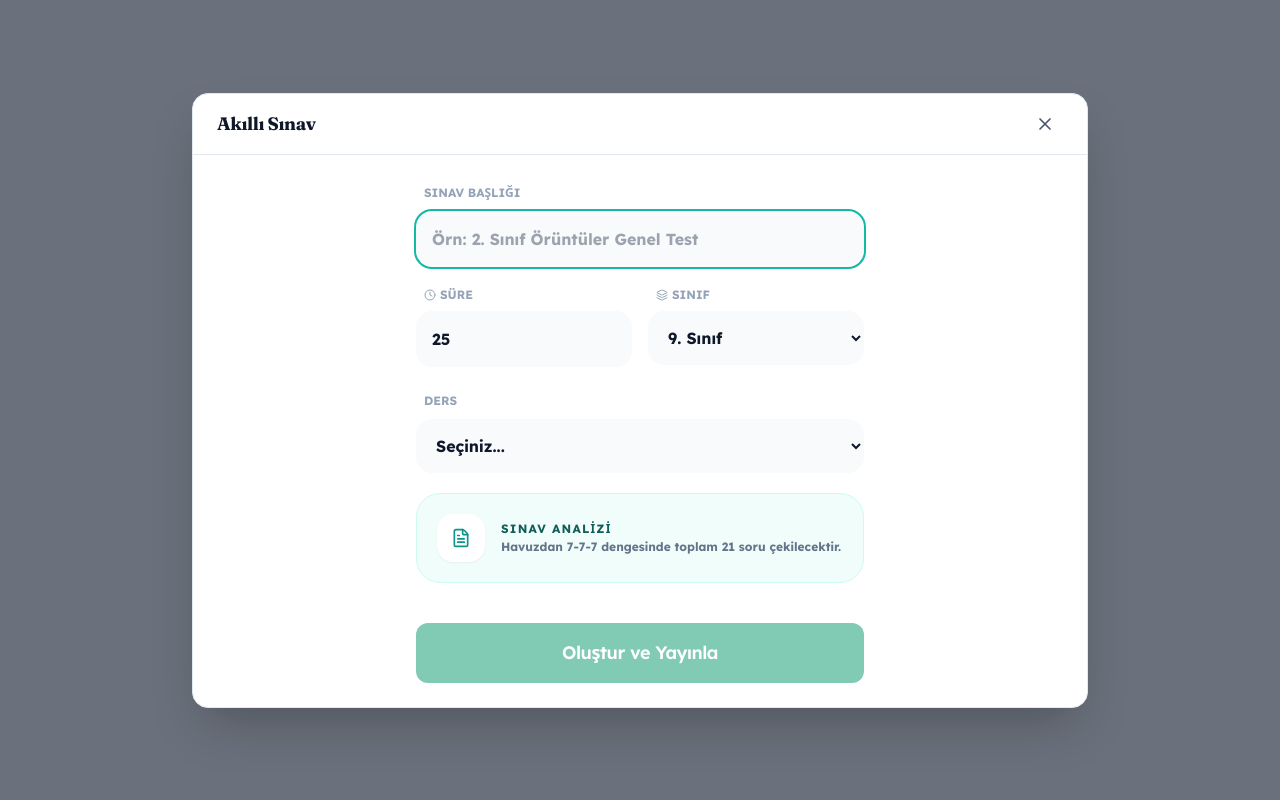
Scenario: shows insufficient pool counts before allowing publication
This screenshot has width=1280, height=800.
Select "Matematik" in the dropdown named "Ders" at (640, 446), box [416,418,864,472]
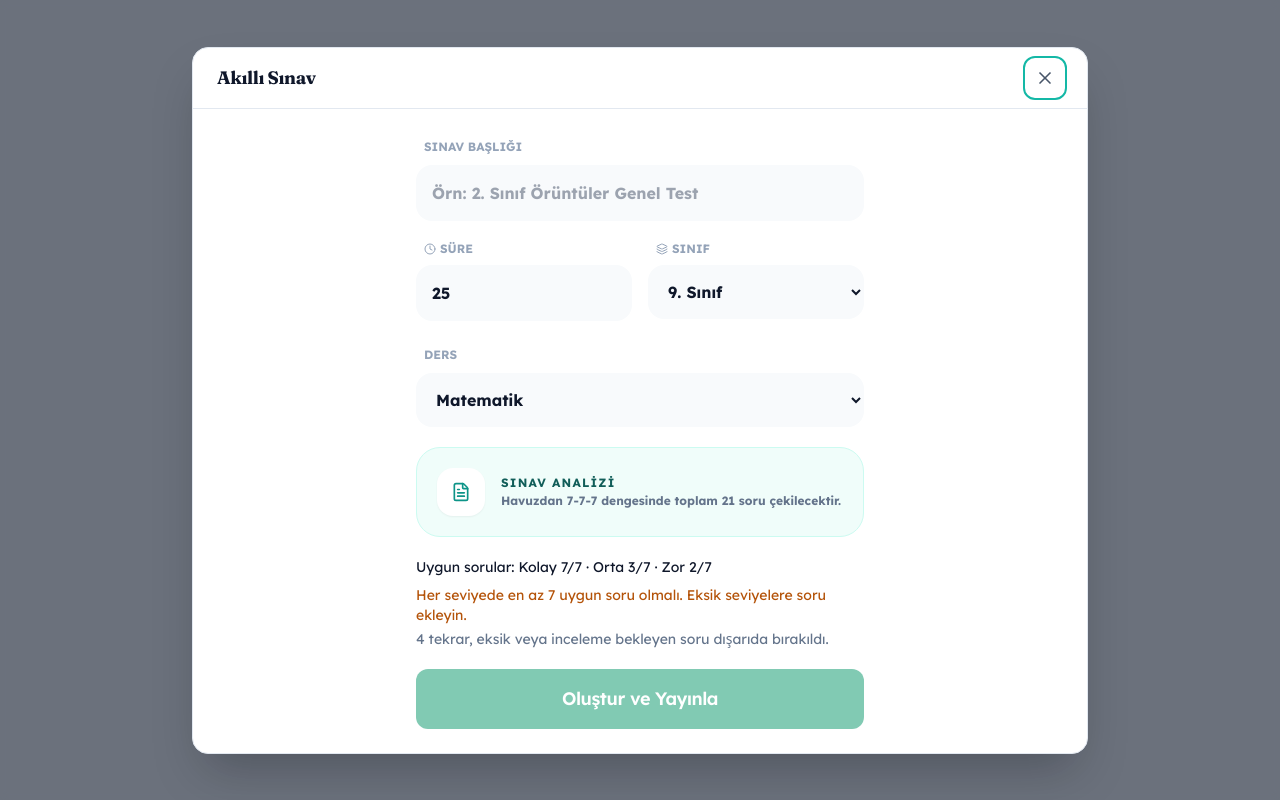
Expected: the button "Oluştur ve Yayınla" is disabled, [416,668,864,728]
Result: the text "Uygun sorular: Kolay 7/7 · Orta 3/7 · Zor 2/7" is shown at [416,558,712,576]
